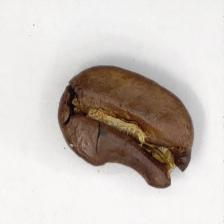NG: (83, 104, 188, 189)
